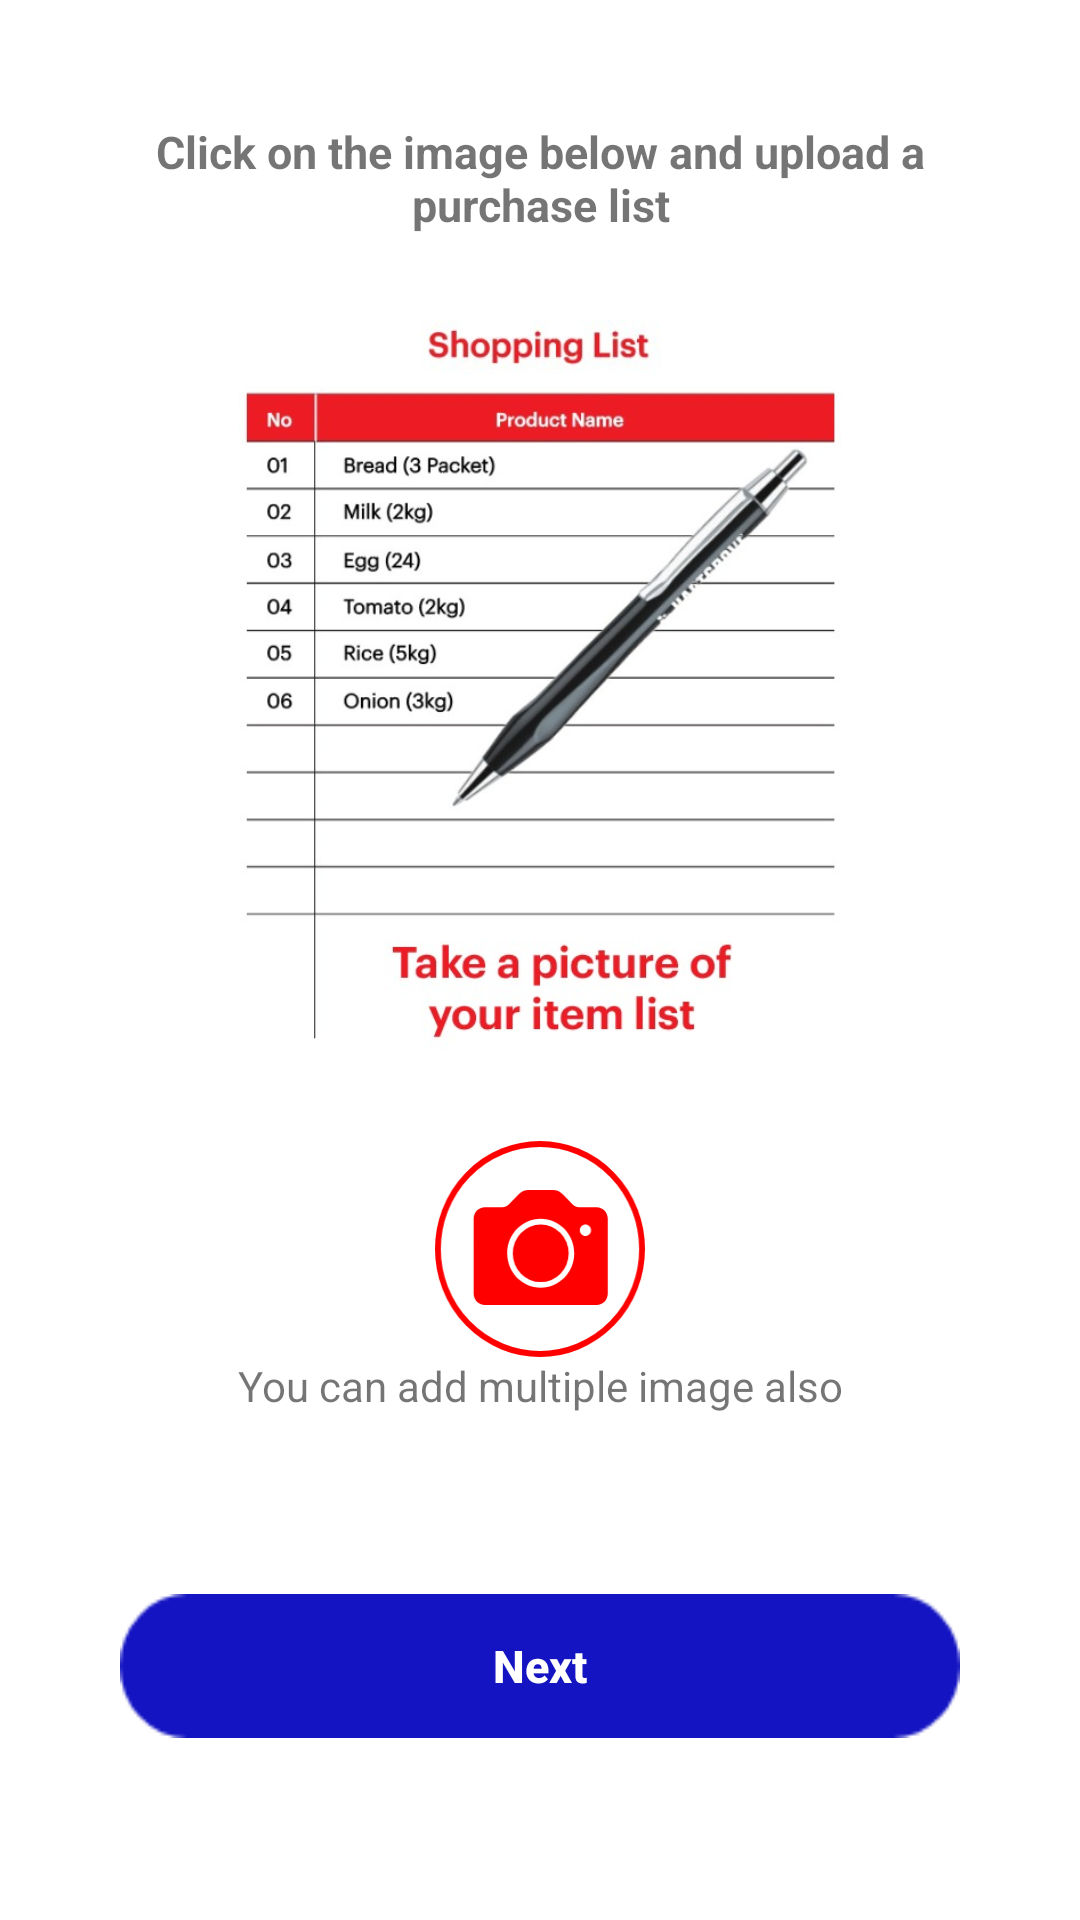

Named icons in this screenshot (1080 × 1920) and their bounding boxes, [left=x1, top=y1, right=x2, bottom=y2]:
groupimage: [left=435, top=1141, right=645, bottom=1357]
